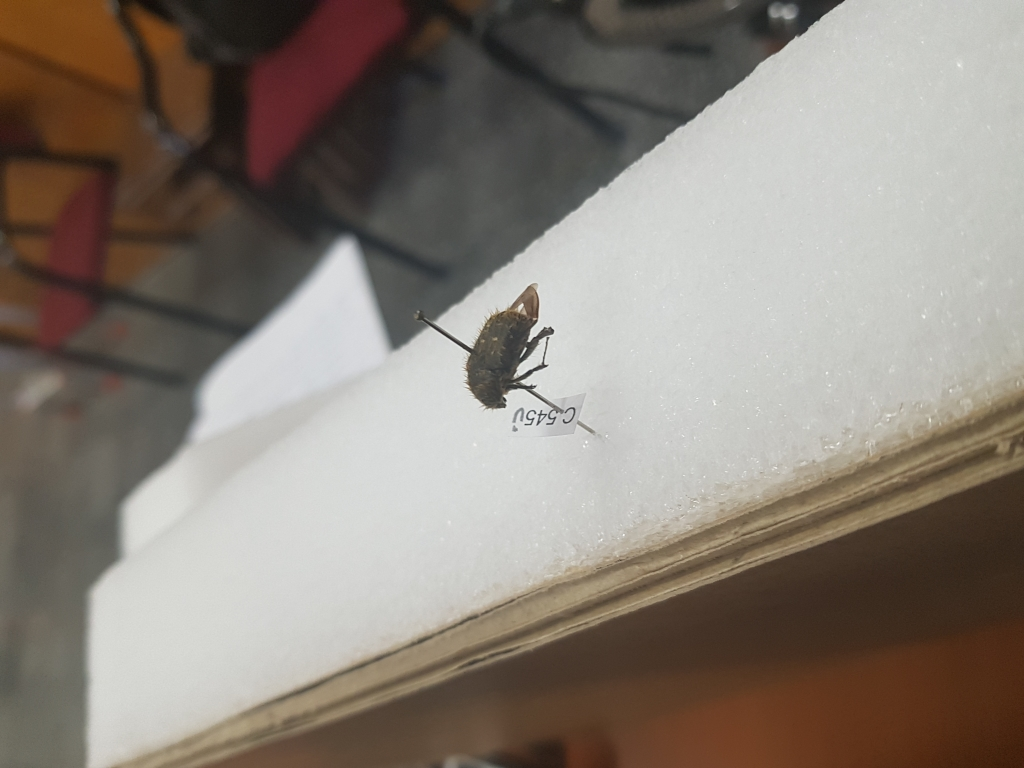Tropinota_hirta: (448, 282, 573, 414)
